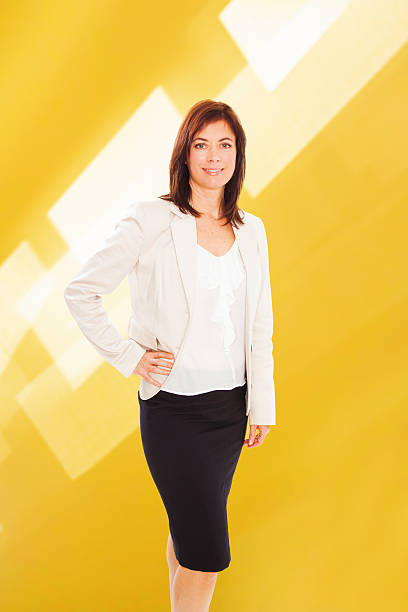F_tailored skirt: (127, 377, 253, 577)
